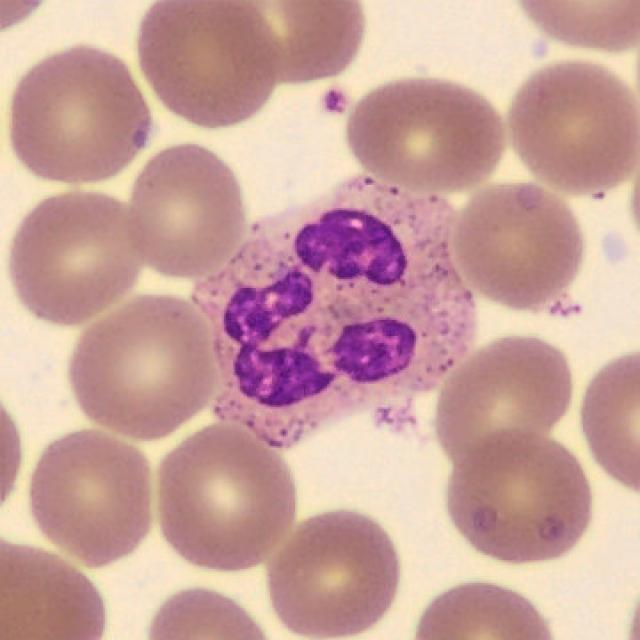Neutrofilo segmentado: (192, 178, 476, 450)
